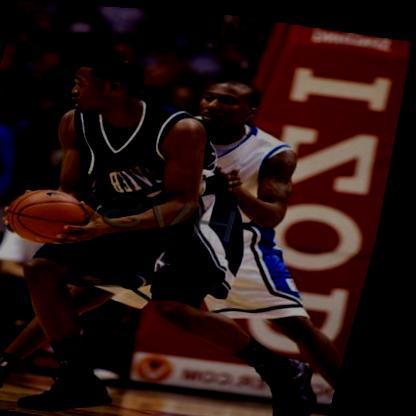basketball: (8, 184, 100, 248)
